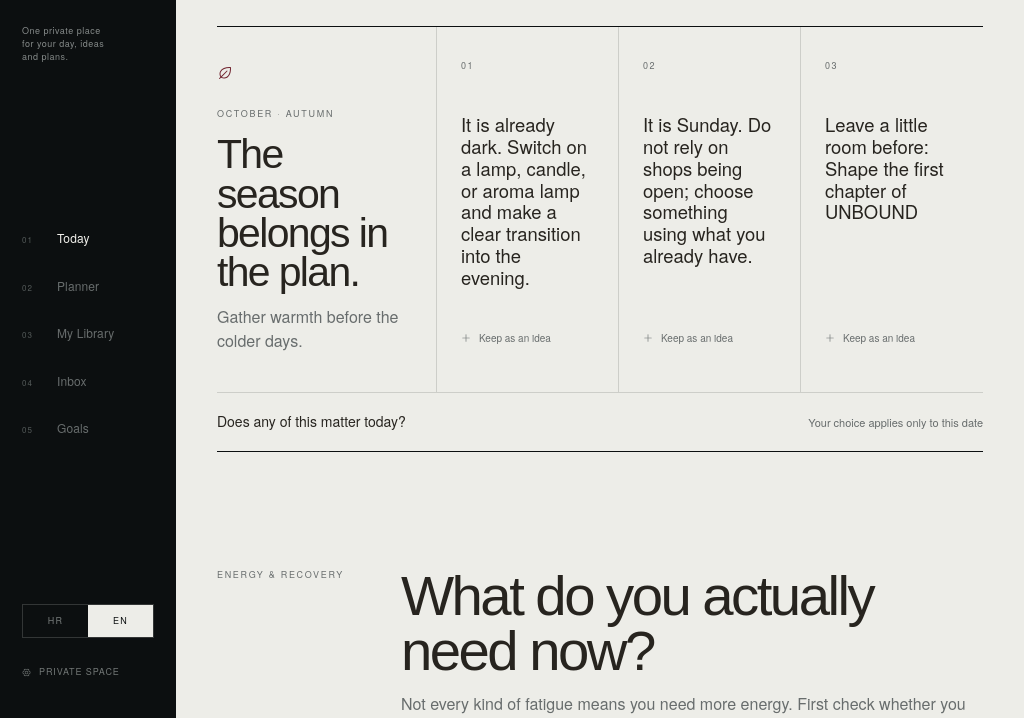
Test: UNBOUND Life OS interactions › adapts inspiration to the current month and saves it as an idea
(page scrolled)
Expected: the heading "The season belongs in the plan." is shown, left=217, top=136, right=404, bottom=293
What coordinates should you click on to do the following:
click the button with aria-label "Save idea:"
I would click on:
 (506, 338)
Its box is left=461, top=316, right=551, bottom=360.
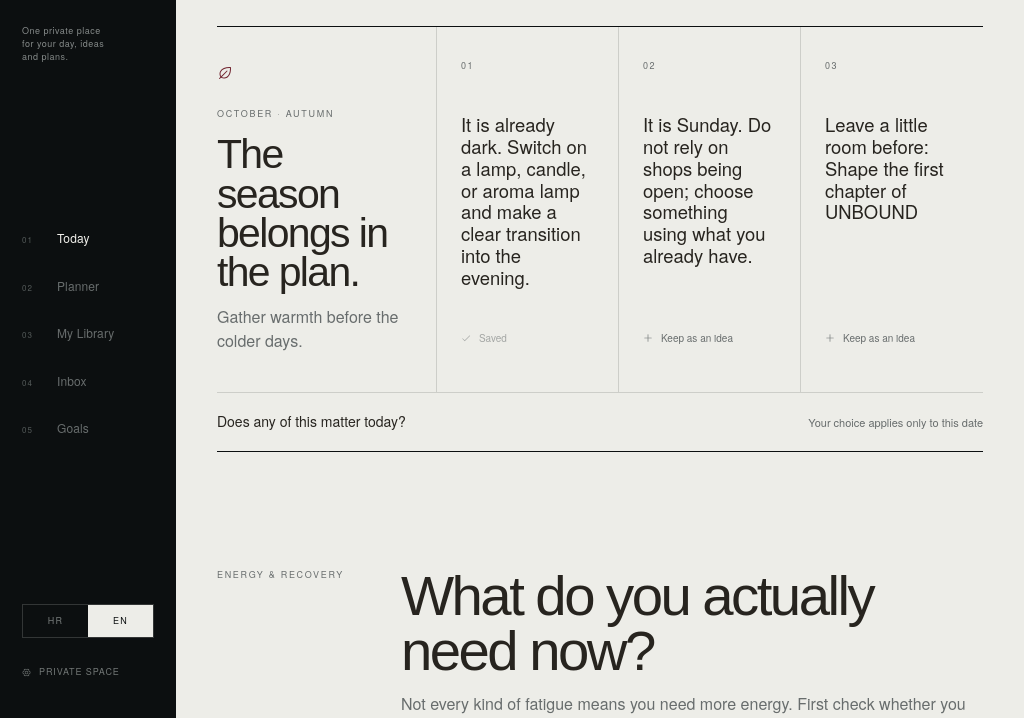
Expected: the button with aria-label "Save idea:" reads "Saved", left=461, top=316, right=507, bottom=360
